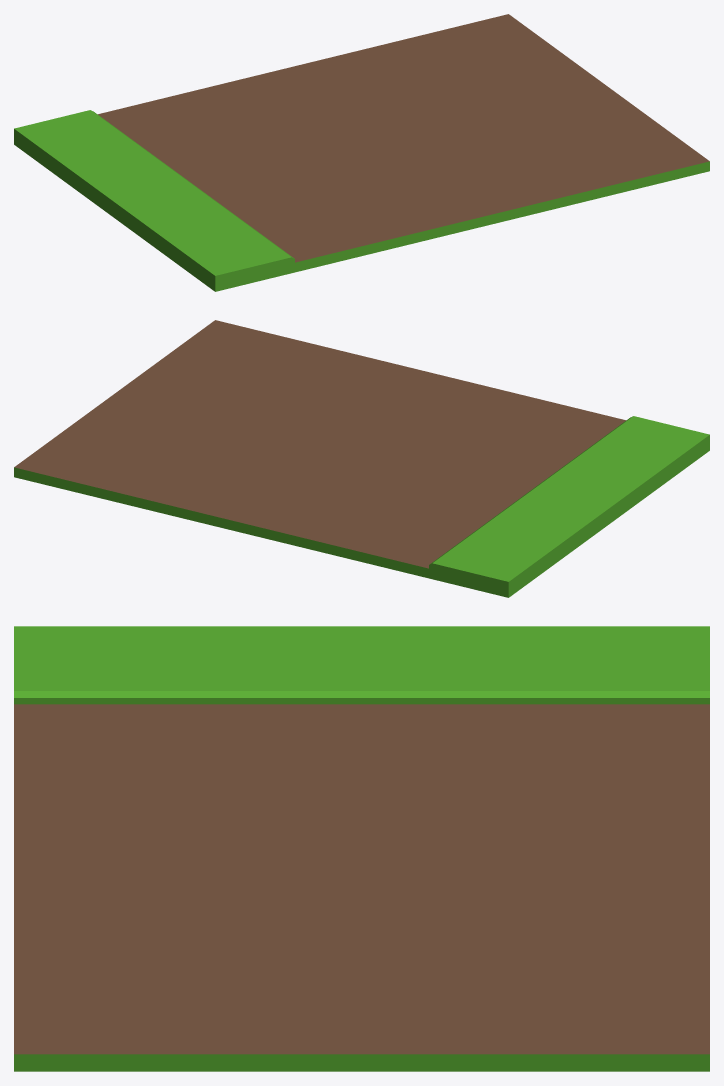
Rendered from obj_ground.fbx.
3 views of the same model, one above another, from view 1: azimuth 30°, elevation 25°; view 2: azimuth 150°, elevation 25°; view 3: azimuth 270°, elevation 25° (orthographic). The views are drawn at different scales.
Parts seen in each view (by area): view 1: obj_ground; view 2: obj_ground; view 3: obj_ground.
Part boxes in pixels (left/top/right/bottom): obj_ground: left=14, top=14, right=709, bottom=291; obj_ground: left=14, top=320, right=709, bottom=597; obj_ground: left=14, top=626, right=709, bottom=1071.
Size of the model in its own units: 34.37 by 1.06 by 24.22.
Materials: 1 (1 with a texture image).
